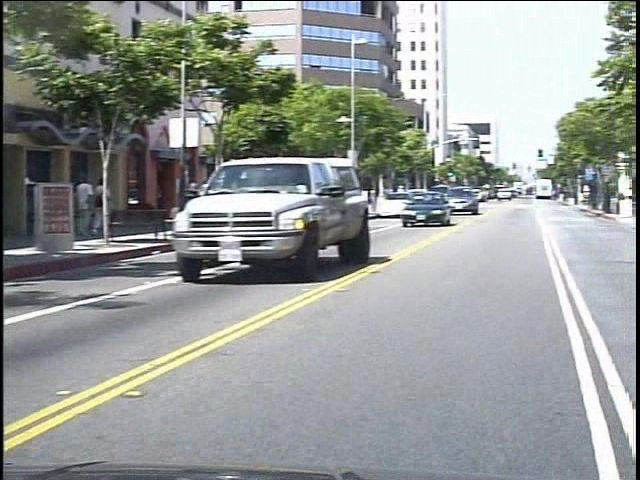person: (88, 173, 108, 236), (102, 176, 118, 240)
